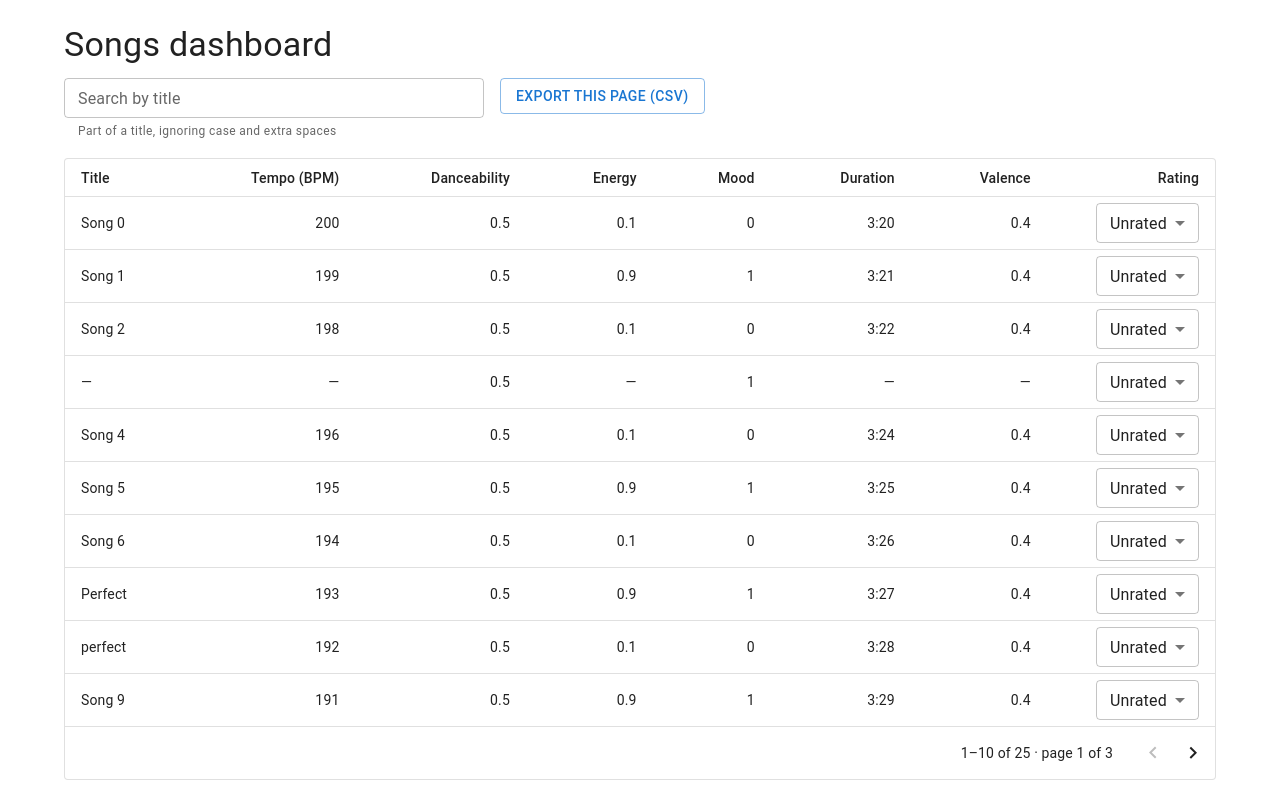
Scenario: loading and display › shows a message and "0 songs" when there are no results
In the search field: (274, 98) x1=64 y1=78 x2=484 y2=118, type "no such song"
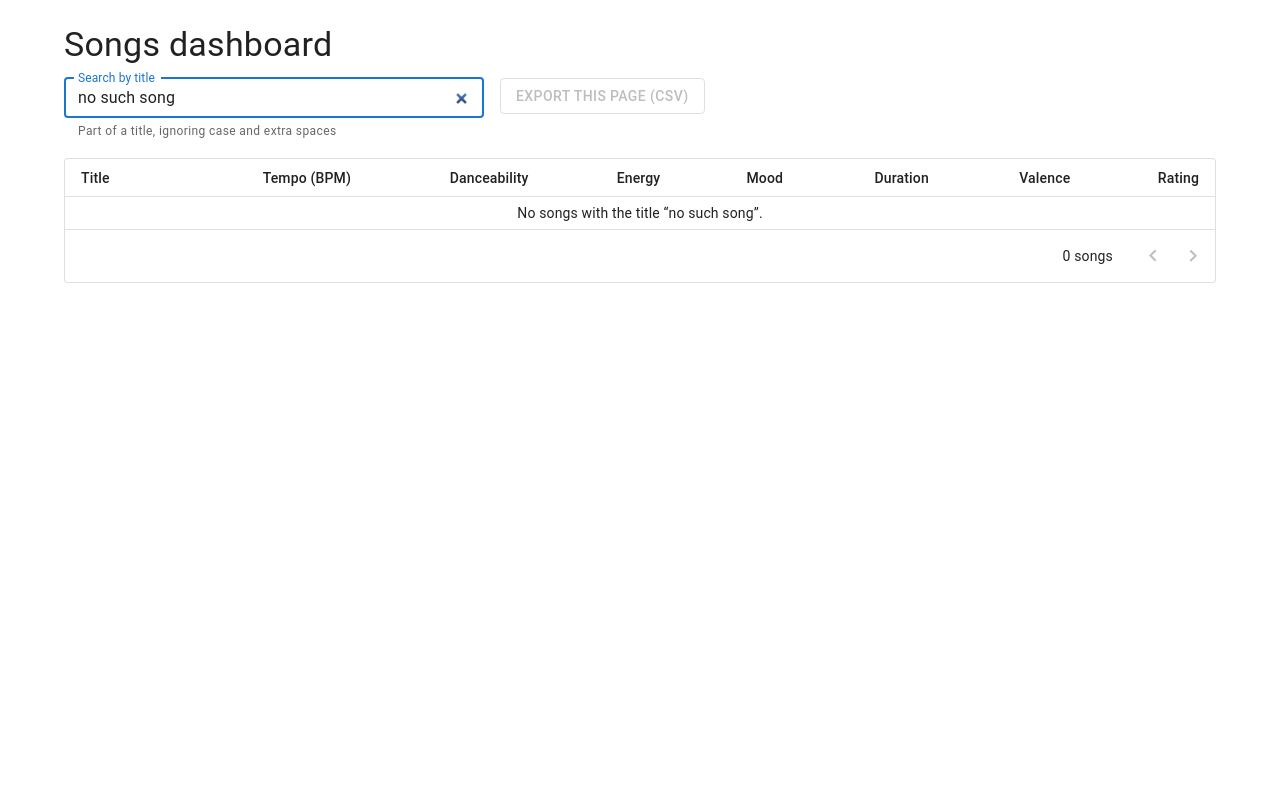
Result: the text "No songs with the title “no such song”." is shown at x1=65 y1=197 x2=1215 y2=230
Result: the text "0 songs" is shown at x1=1063 y1=246 x2=1113 y2=266
Result: the button "Export this page (CSV)" is disabled at x1=500 y1=78 x2=705 y2=114
